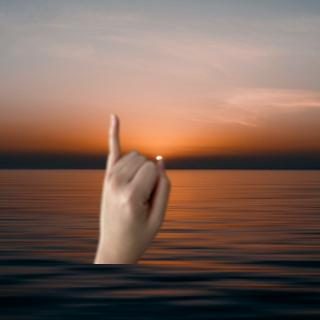Fine: (88, 107, 176, 266)
